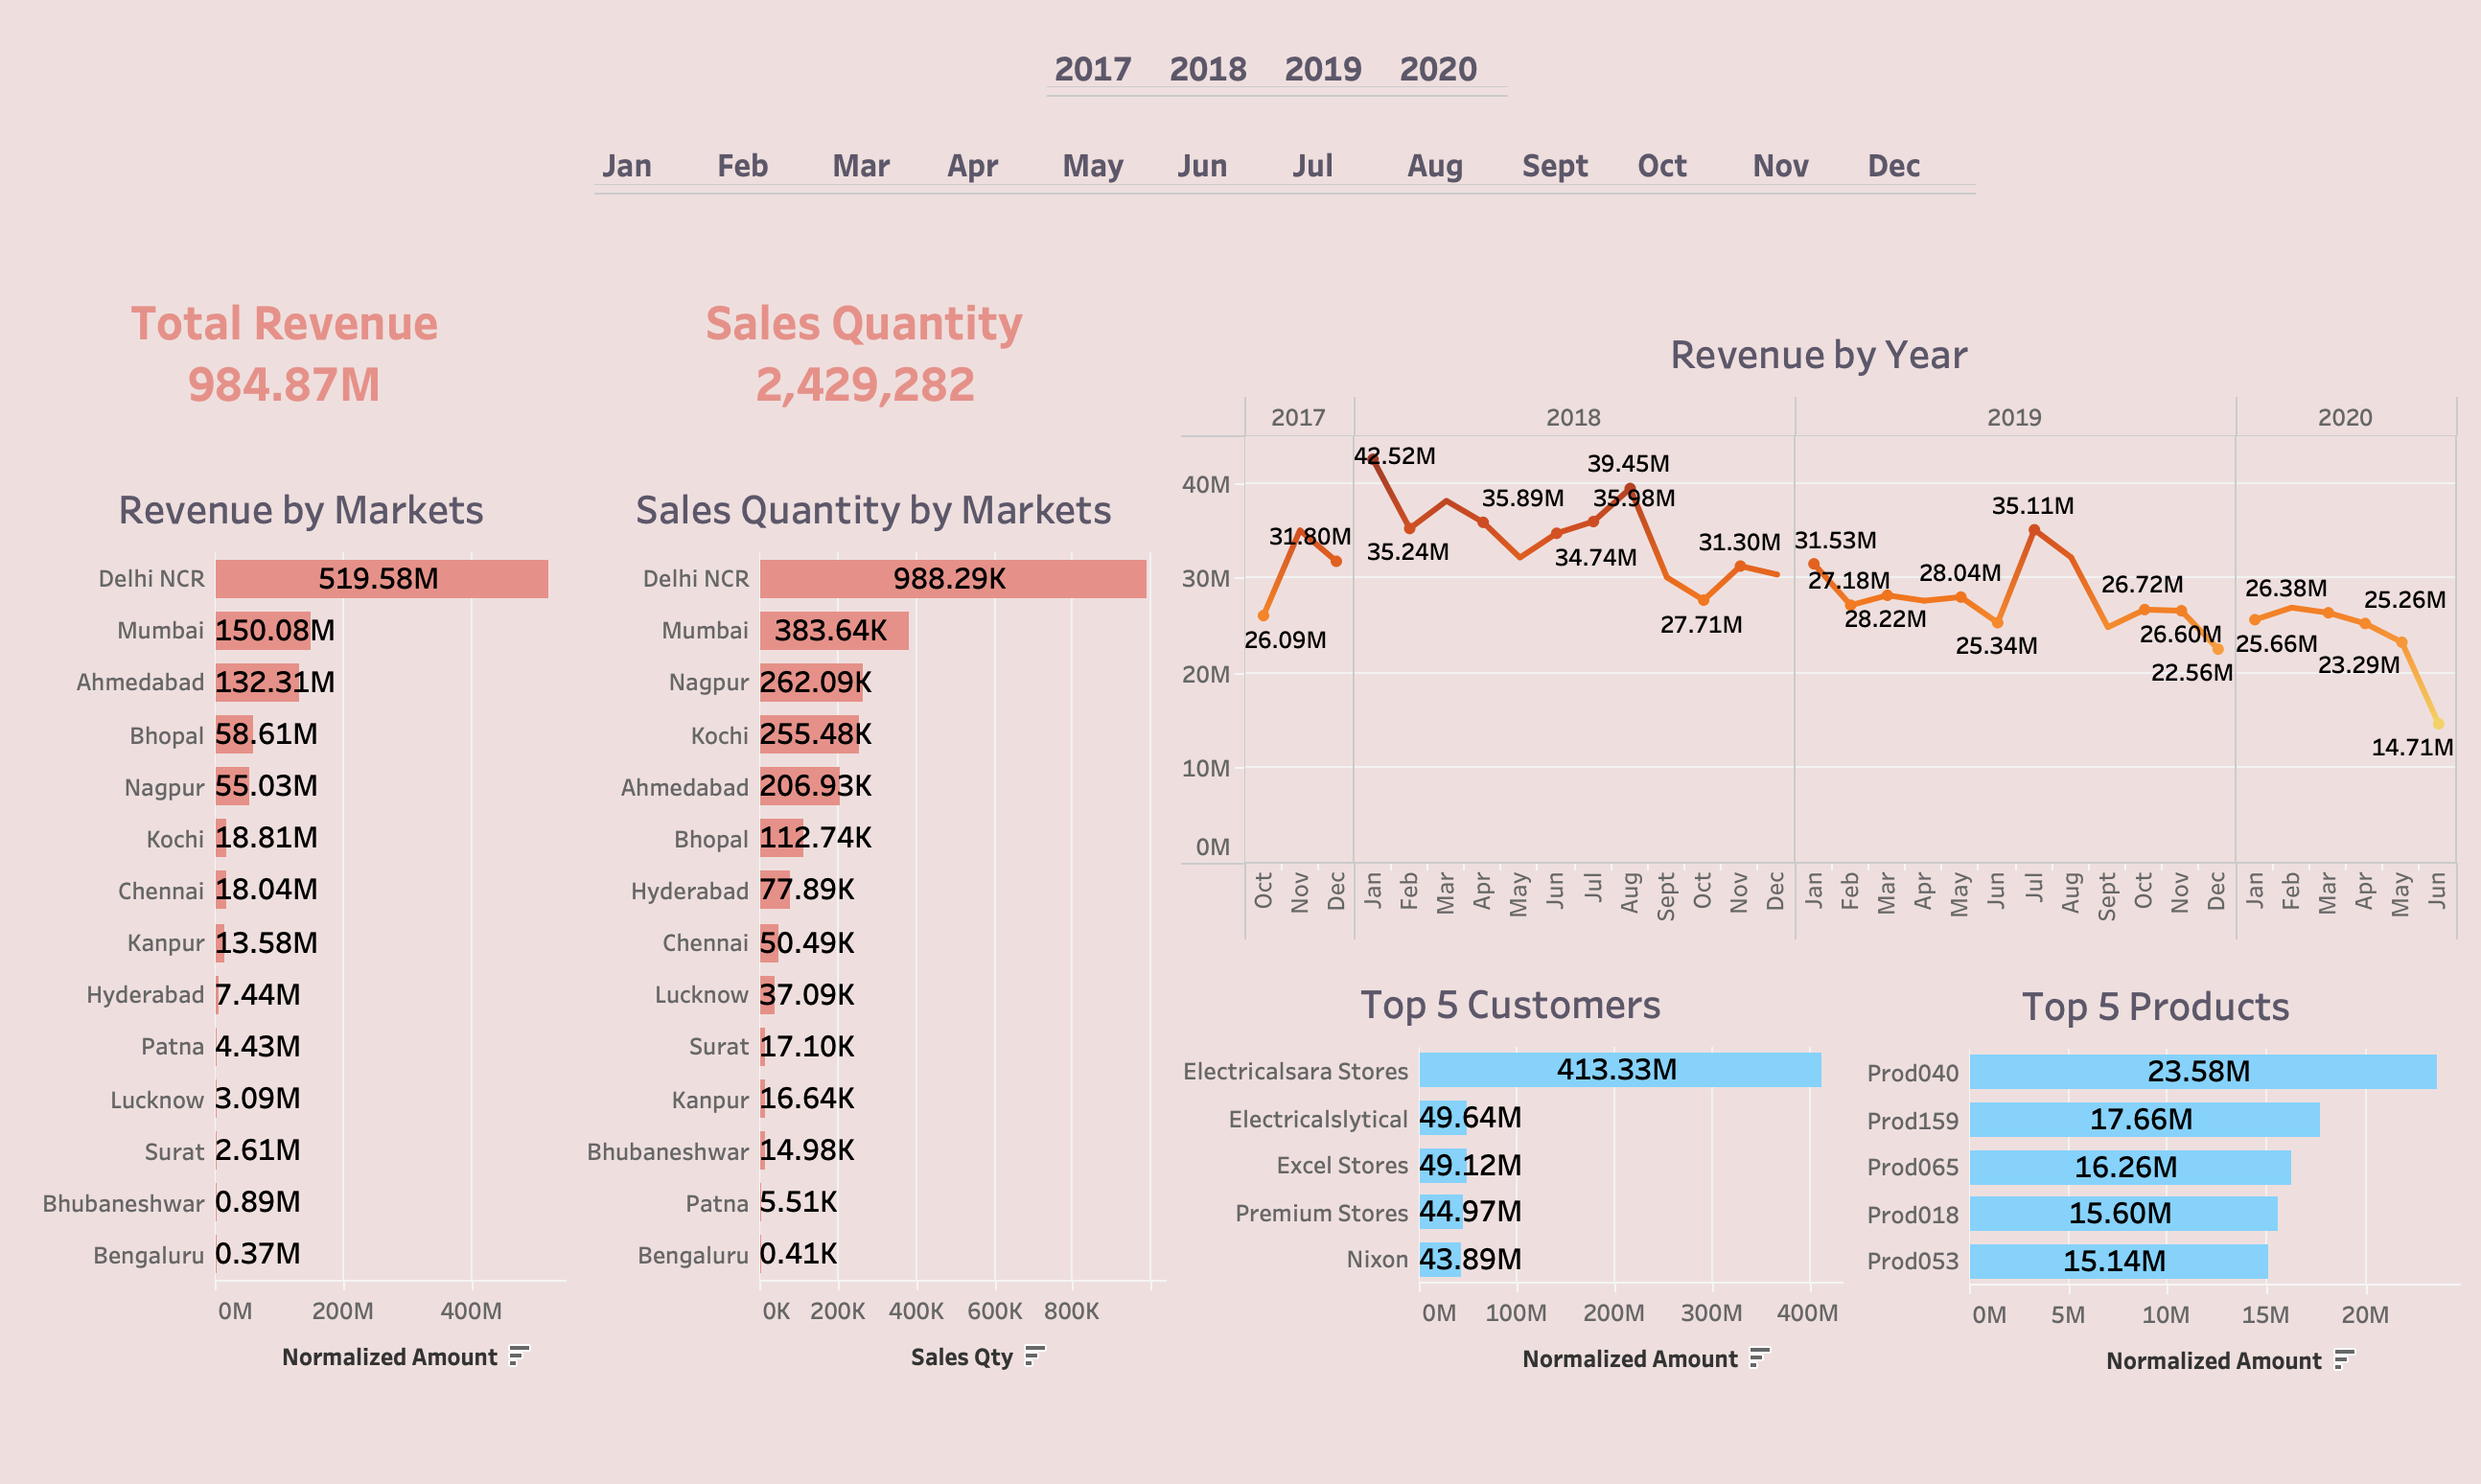

The dashboard page shown, as its layout file describes it:
{"tool":"tableau","page":{"name":"Dashboard - Revenue Analysis","canvas":[1000,1000],"units":"permille","ordinal":1},"visuals":[{"type":"worksheet","title":"Year","mark":"Automatic","cols":["cy_date"],"box":[421.9,32,189.3,96]},{"type":"worksheet","title":"Month","mark":"Automatic","cols":["cy_date"],"box":[239.6,98.4,557.2,101]},{"type":"worksheet","title":"Quantity","mark":"Automatic","box":[307.5,202.9,199.9,122]},{"type":"worksheet","title":"Revenue","mark":"Automatic","box":[72.7,204.2,168.9,96.8]},{"type":"worksheet","title":"Revenue by Year","mark":"Automatic","rows":["Calculation_6357112367826554880"],"cols":["cy_date","cy_date"],"box":[476,211.3,514.7,422.6]},{"type":"worksheet","title":"Revenue by Markets","mark":"Automatic","rows":["markets_name"],"cols":["Calculation_6357112367826554880"],"box":[15.5,316.3,212.5,618.1]},{"type":"worksheet","title":"Sales Quantity by Markets","mark":"Automatic","rows":["markets_name"],"cols":["sales_qty"],"box":[234.9,316.3,234.9,618.1]},{"type":"worksheet","title":"Top 5 Customers","mark":"Automatic","rows":["custmer_name"],"cols":["Calculation_6357112367826554880"],"box":[476,649.6,266.6,286.1]},{"type":"worksheet","title":"Top 5 Products","mark":"Automatic","rows":["product_code (products)"],"cols":["Calculation_6357112367826554880"],"box":[747.3,650.9,244.2,286.1]}]}

Visuals, with their boxes on the dashboard's canvas, which has no fixed pixel size, in thousandths of its width and height (x1, y1, x2, y2). These are canvas units, not pixel positions in the 2481x1484 screenshot, which may show the page scaled, cropped or inside an application window:
"Year" worksheet: (left=422, top=32, right=611, bottom=128)
"Month" worksheet: (left=240, top=98, right=797, bottom=199)
"Quantity" worksheet: (left=308, top=203, right=507, bottom=325)
"Revenue" worksheet: (left=73, top=204, right=242, bottom=301)
"Revenue by Year" worksheet: (left=476, top=211, right=991, bottom=634)
"Revenue by Markets" worksheet: (left=16, top=316, right=228, bottom=934)
"Sales Quantity by Markets" worksheet: (left=235, top=316, right=470, bottom=934)
"Top 5 Customers" worksheet: (left=476, top=650, right=743, bottom=936)
"Top 5 Products" worksheet: (left=747, top=651, right=992, bottom=937)
